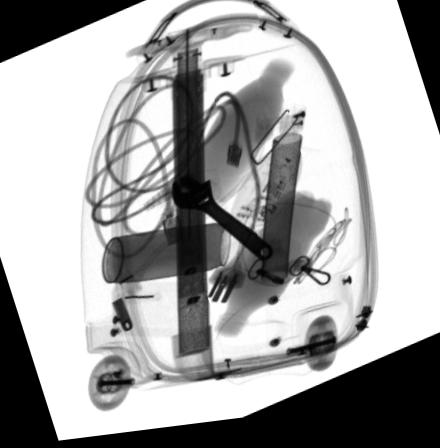Wrench: (170, 178, 273, 267)
